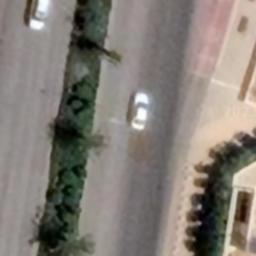sedan: (126, 88, 150, 131)
van: (24, 0, 51, 31)
